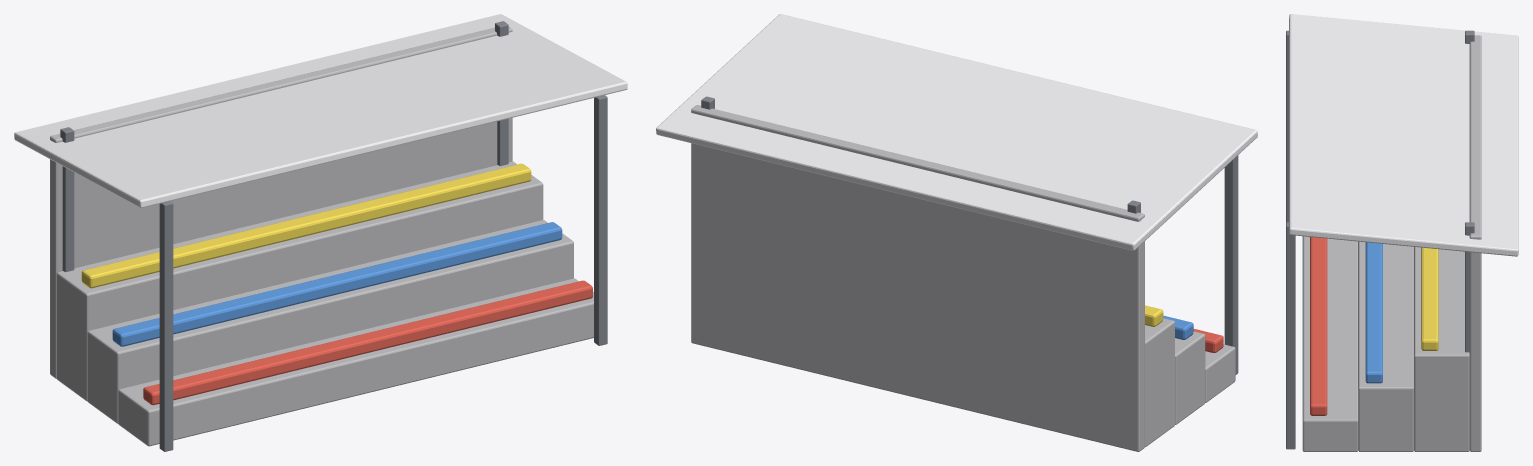
Rendered from grandstand_lod0.fbx.
The picture shows the model from 3 angles, left to right: view 1: azimuth 30°, elevation 25°; view 2: azimuth 150°, elevation 25°; view 3: azimuth 270°, elevation 25°; orthographic projection. The views are drawn at different scales.
Parts seen in each view (by area): view 1: grandstand; view 2: grandstand; view 3: grandstand.
Boxes of the visible parts, left/top/right/bottom form: grandstand: left=14, top=14, right=627, bottom=451; grandstand: left=656, top=14, right=1257, bottom=451; grandstand: left=1286, top=14, right=1518, bottom=451.
Bounding box in the file's own units: 6.4 × 3.2 × 2.93.
